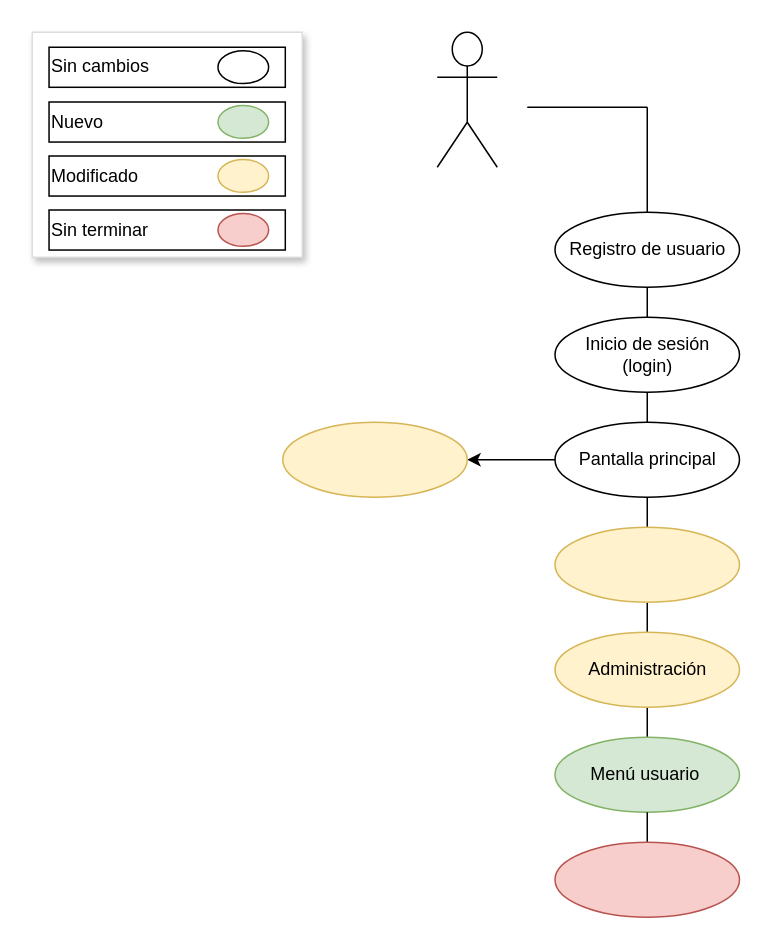
This 767x944 diagram has some shape labels left out. Each missing label, with the centre of its shape:
Editar publicación: (647,879)
Nueva Mascota: (647,564)
Publicación: (374,459)
Usuario: (466,99)
